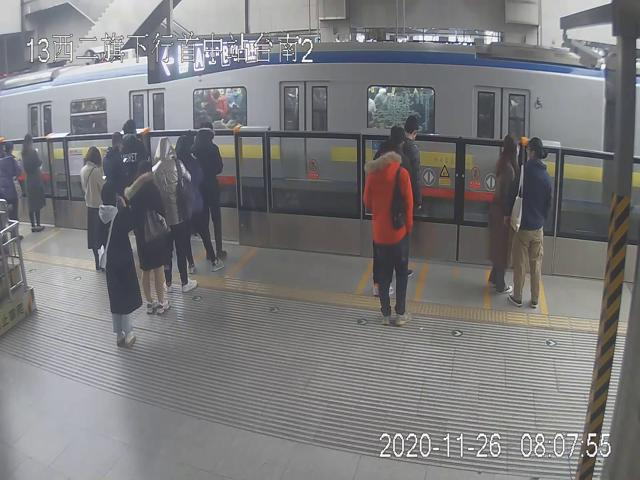person: (364, 144, 411, 326), (124, 162, 172, 313), (98, 181, 140, 349), (512, 137, 553, 309), (153, 137, 197, 292), (489, 132, 519, 295), (194, 123, 227, 260), (81, 147, 112, 273), (21, 133, 46, 232)
